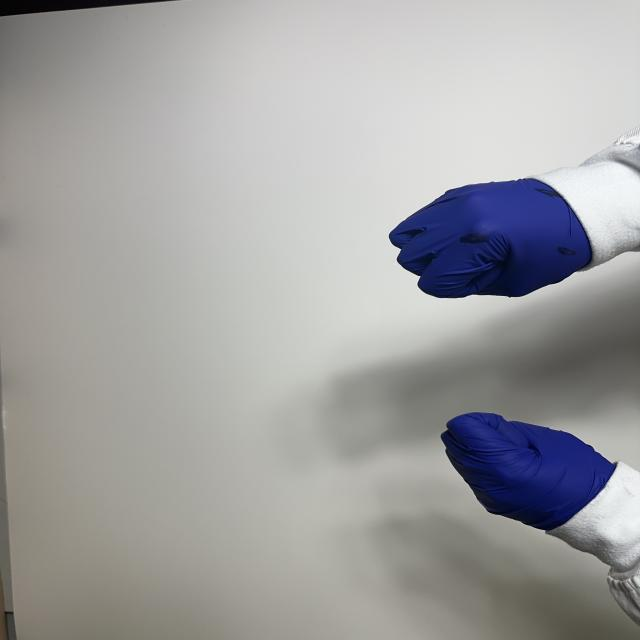gloves_contaminated: (390, 179, 591, 298), (442, 413, 615, 530)
